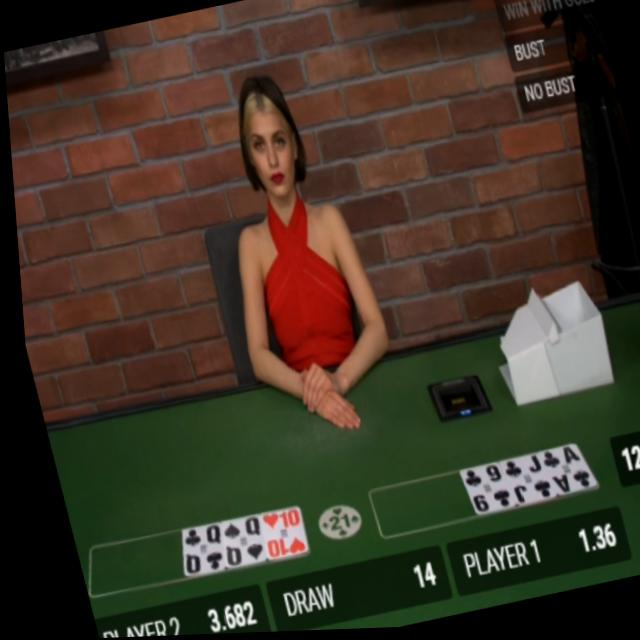Card-10: (252, 507, 301, 561)
Card-9: (452, 466, 507, 518)
Card-A: (529, 447, 590, 499)
Card-J: (492, 456, 547, 508)
Card-Q: (212, 516, 257, 568), (174, 523, 217, 575)
